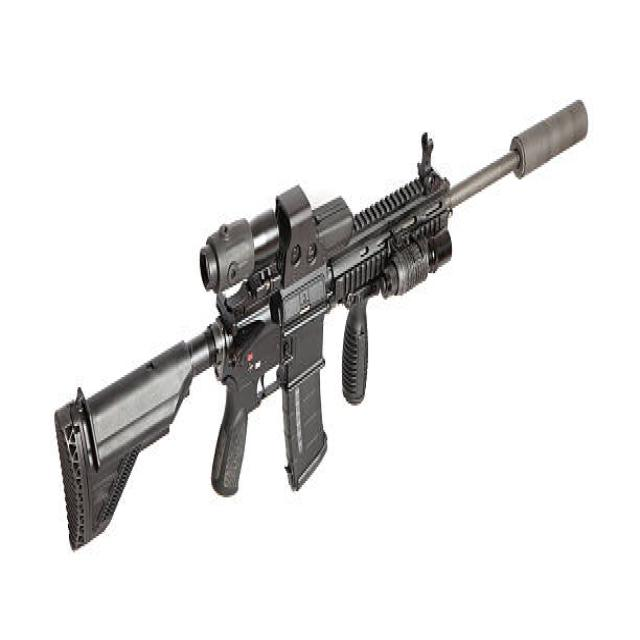rifle: (52, 87, 595, 568)
